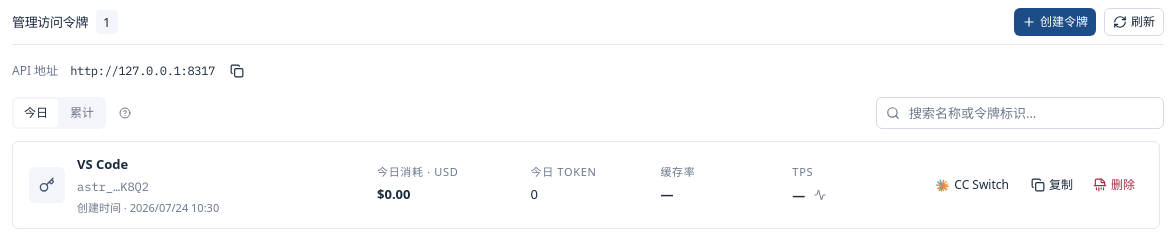
Test: AccessTokenManager › closes the import dialog when the Core session changes and blocks stale tokens
Click the button "CC Switch" at (972, 185), box [924,171,1019,199]
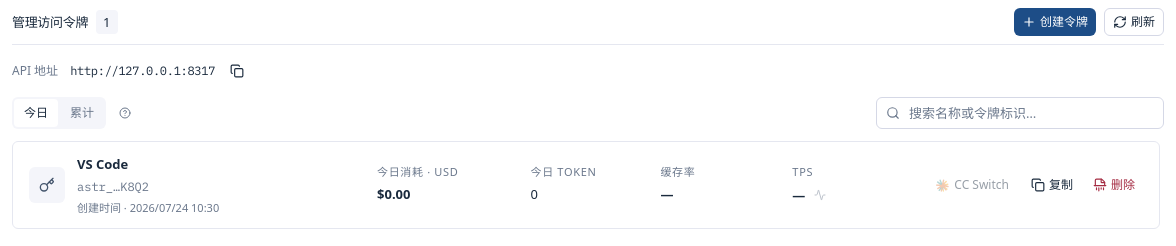
Result: the button "CC Switch" is disabled at [924,171,1019,199]
